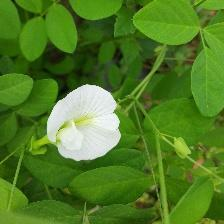shankupushpam: (45, 82, 126, 166)
